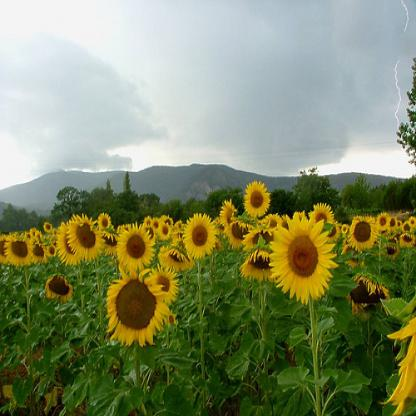SUN FLOWER: (7, 138, 404, 398)
